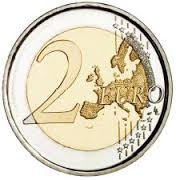eur002: (1, 1, 173, 179)
